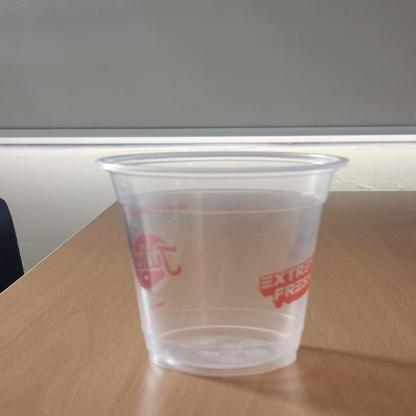Plastic Cup: (97, 150, 349, 376)
